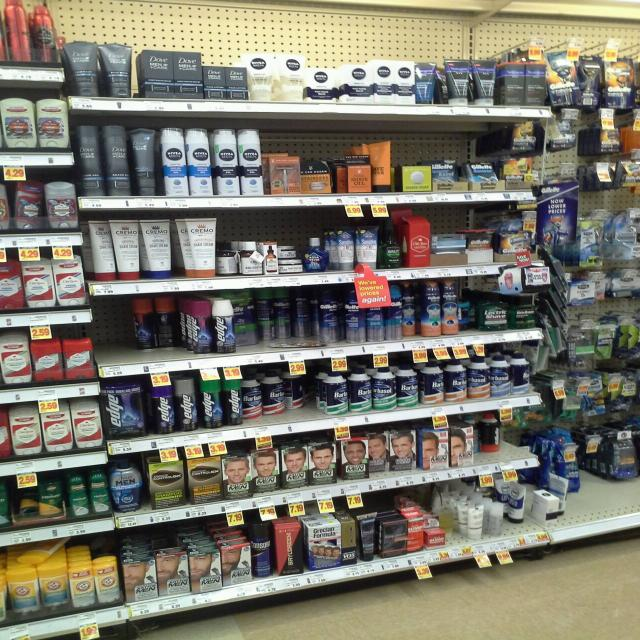void: (98, 298, 129, 377)
